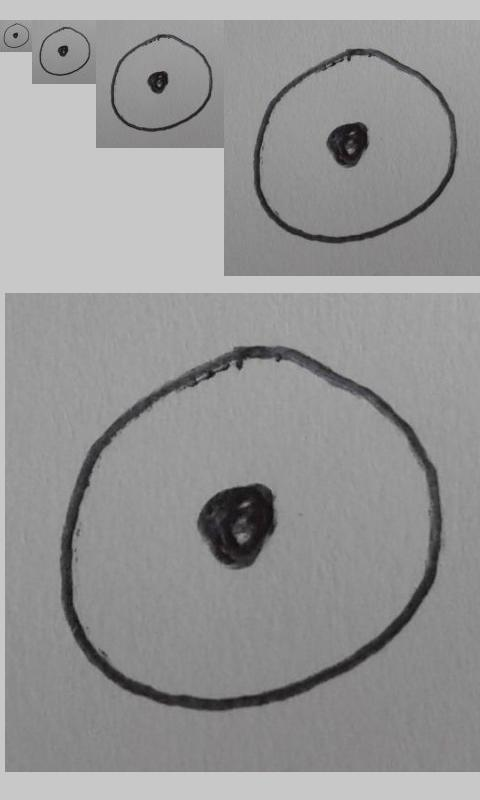radio_button: (58, 342, 445, 716), (252, 47, 459, 246), (110, 34, 213, 133), (38, 26, 92, 77), (2, 22, 30, 49)
